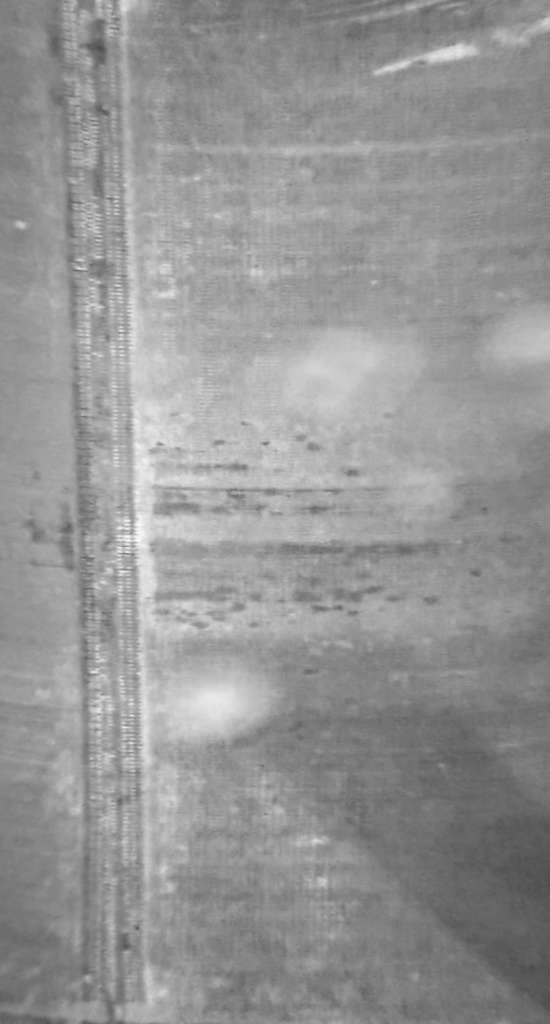splice: (52, 1, 144, 1024)
